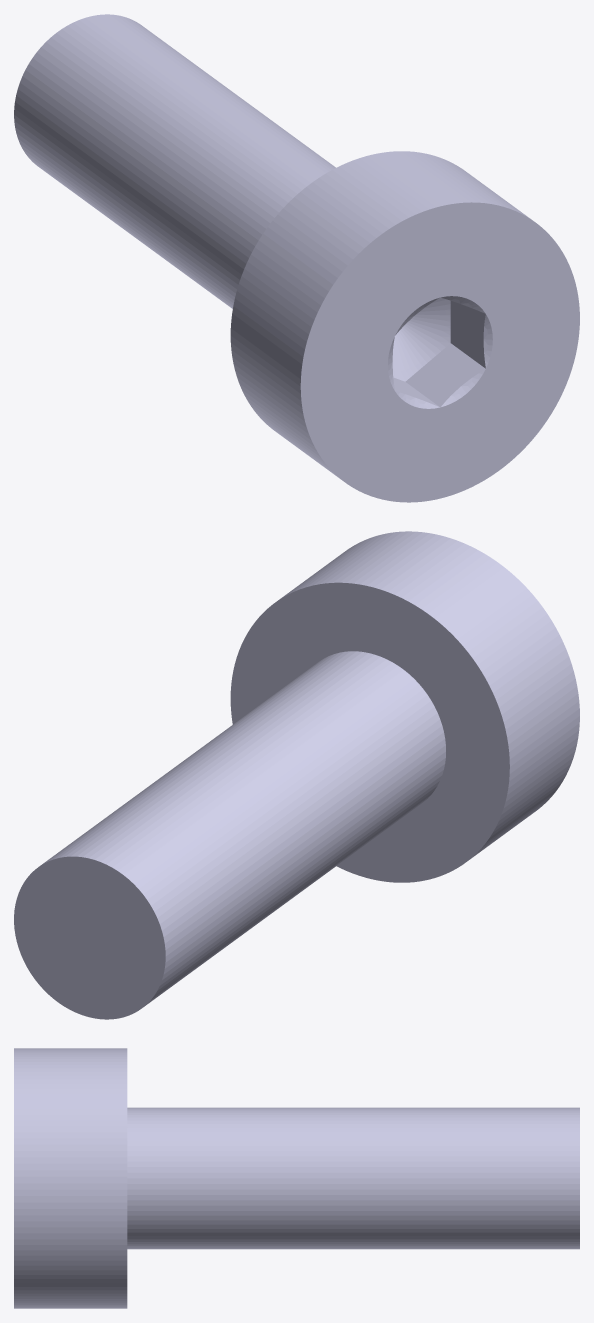
The model's file is ugv_ddsm_m2_5017_fshvuj.dae.
3 renders of one model, top to bottom at view 1: azimuth 30°, elevation 25°; view 2: azimuth 150°, elevation 25°; view 3: azimuth 270°, elevation 25°, orthographic. The views are drawn at different scales.
Visible parts, largest first — view 1: node0; view 2: node0; view 3: node0.
Part boxes in pixels (x1,y1,x2,y2): node0: (14, 14, 579, 502); node0: (14, 531, 579, 1019); node0: (14, 1048, 579, 1308).
Bounding box in the file's own units: 0.0046 × 0.01 × 0.0046.
